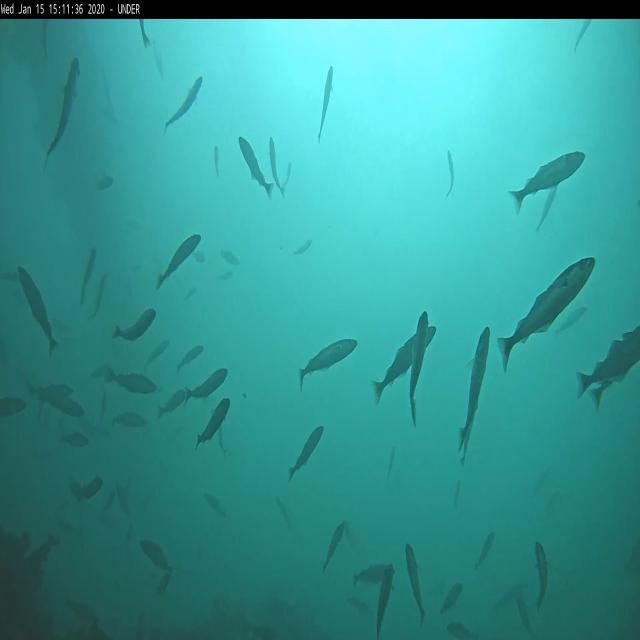fish: (498, 256, 597, 371), (372, 325, 436, 407), (577, 323, 638, 401), (510, 152, 585, 210), (18, 263, 60, 356), (459, 323, 489, 452), (47, 58, 80, 167), (299, 338, 358, 390), (588, 348, 637, 410), (238, 133, 276, 201), (157, 236, 202, 286), (288, 422, 324, 482), (166, 77, 203, 132), (411, 312, 428, 426), (198, 398, 230, 452), (406, 546, 428, 624), (40, 385, 87, 420), (184, 368, 227, 406), (106, 368, 157, 398), (114, 310, 156, 344), (140, 538, 176, 574), (318, 64, 333, 144), (378, 562, 394, 637), (267, 134, 286, 197), (322, 522, 345, 572), (203, 491, 234, 528), (80, 247, 98, 308), (144, 334, 172, 372), (27, 377, 73, 400), (554, 305, 586, 338), (158, 389, 192, 419), (534, 541, 549, 609), (353, 564, 393, 587), (474, 529, 494, 571), (516, 592, 534, 636), (178, 342, 203, 373), (440, 582, 462, 616), (572, 20, 594, 54), (110, 411, 146, 431), (62, 432, 88, 452), (446, 149, 456, 198), (292, 236, 312, 256), (221, 249, 241, 266), (138, 20, 150, 48), (212, 144, 220, 172)
